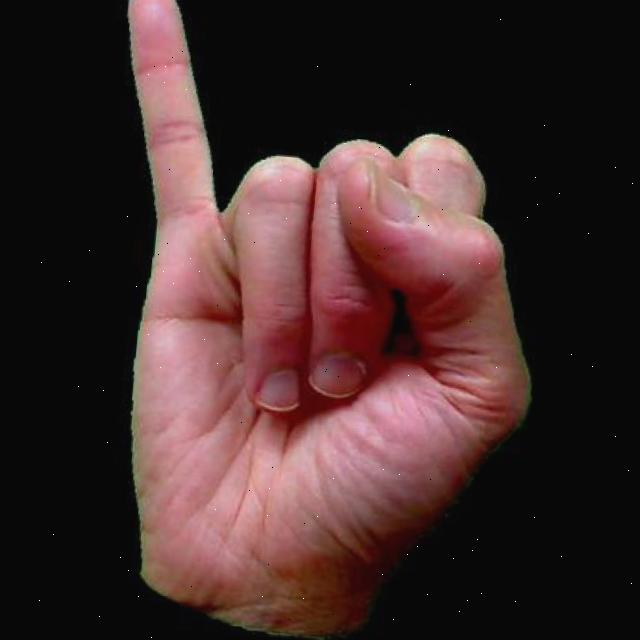i: (61, 0, 563, 640)
